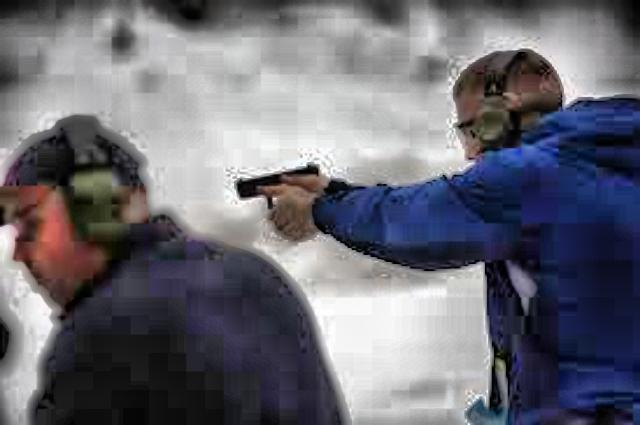pistol: (230, 162, 326, 216)
